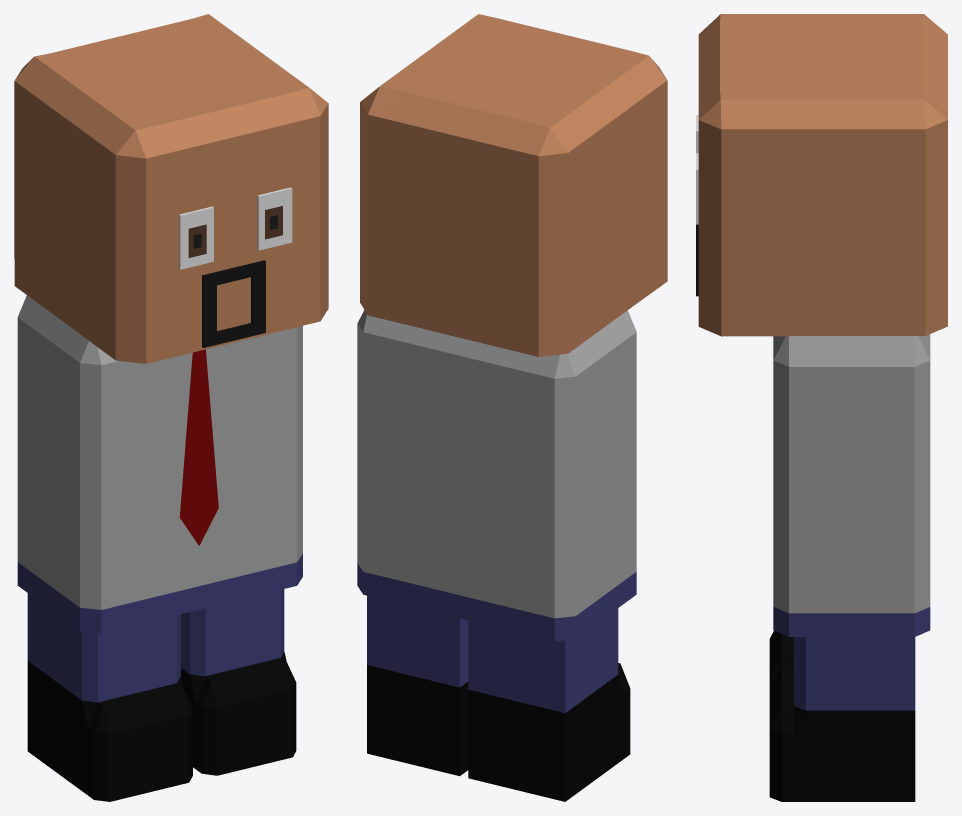
The model's file is polyPerp2.fbx.
The picture shows the model from 3 angles, left to right: view 1: azimuth 30°, elevation 25°; view 2: azimuth 150°, elevation 25°; view 3: azimuth 270°, elevation 25°; orthographic projection. The views are drawn at different scales.
Visible parts, largest first — view 1: polyEyes; view 2: polyEyes; view 3: polyEyes.
Part boxes in pixels (box(x1,y1,x2,y2)): polyEyes: box(14, 14, 328, 801); polyEyes: box(357, 14, 667, 801); polyEyes: box(696, 14, 947, 801).
Size of the model in its own units: 16.9 by 49.89 by 16.4.
